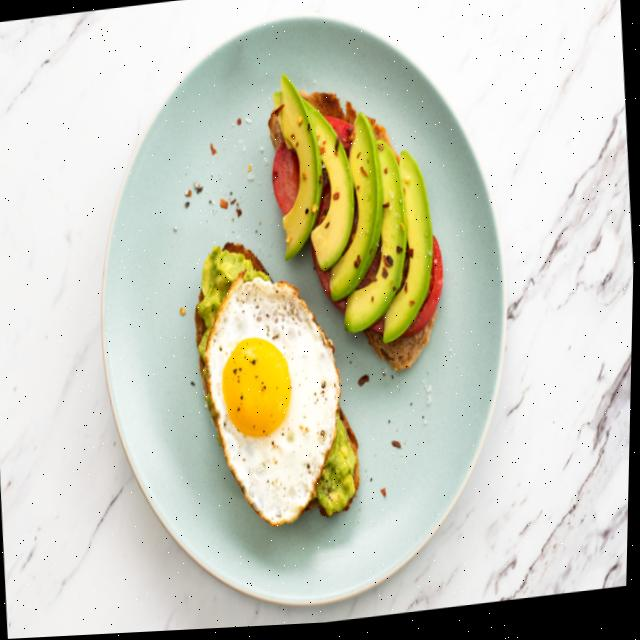Egg: (206, 278, 342, 528)
